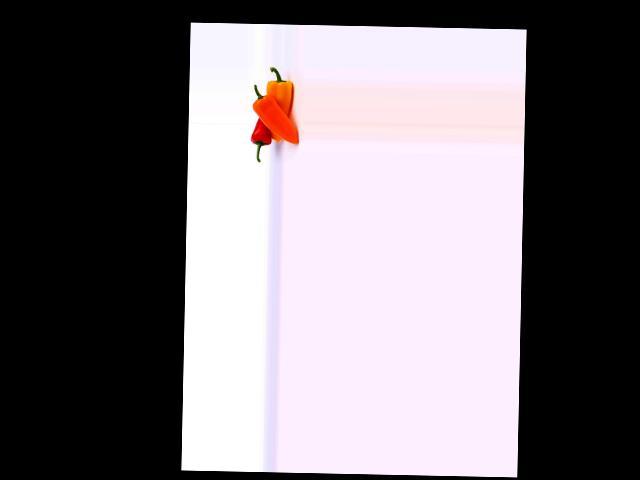bell_pepper: (262, 65, 299, 123)
